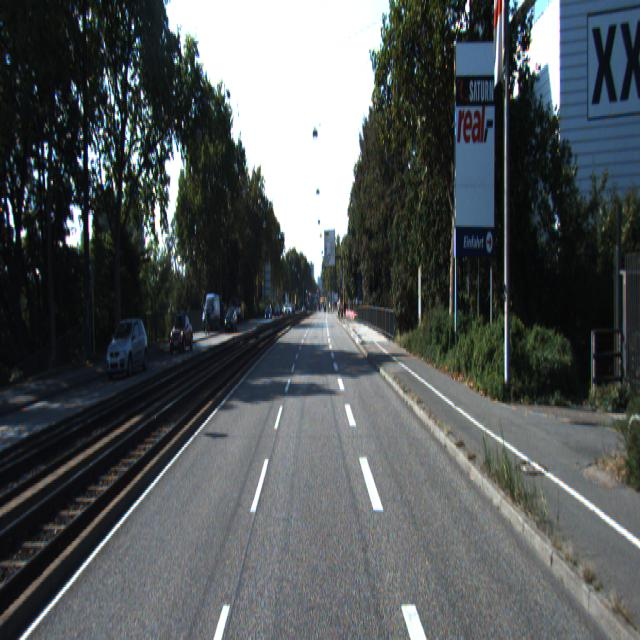Car: (106, 318, 150, 380), (168, 315, 194, 356)
